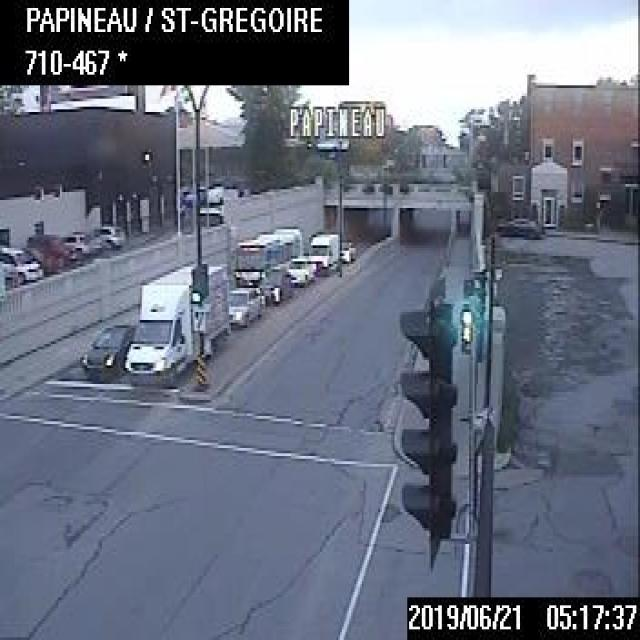bus: (232, 224, 304, 285)
vehicle: (121, 259, 230, 384), (78, 318, 136, 380), (0, 242, 42, 282), (228, 286, 265, 327), (306, 230, 336, 276), (494, 211, 540, 237), (284, 254, 316, 288), (58, 230, 88, 260), (338, 238, 356, 262)
